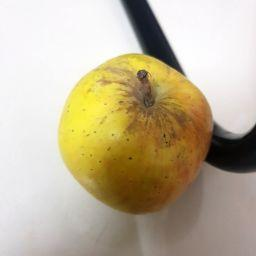apple: (41, 31, 234, 223)
